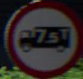Heavy Vehicles: (9, 7, 77, 66)
